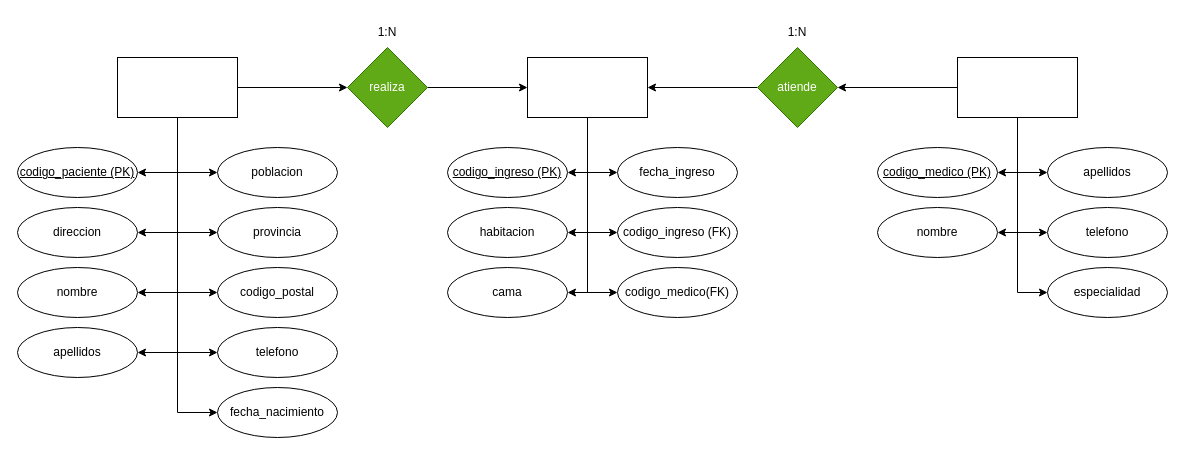
The diagram is 1185 pixels wide and 455 high, and some of its shapes have lost their labels. Each missing label, with the centre of its shape:
Ingreso: [587,87]
Medico: [1017,87]
Paciente: [177,87]
